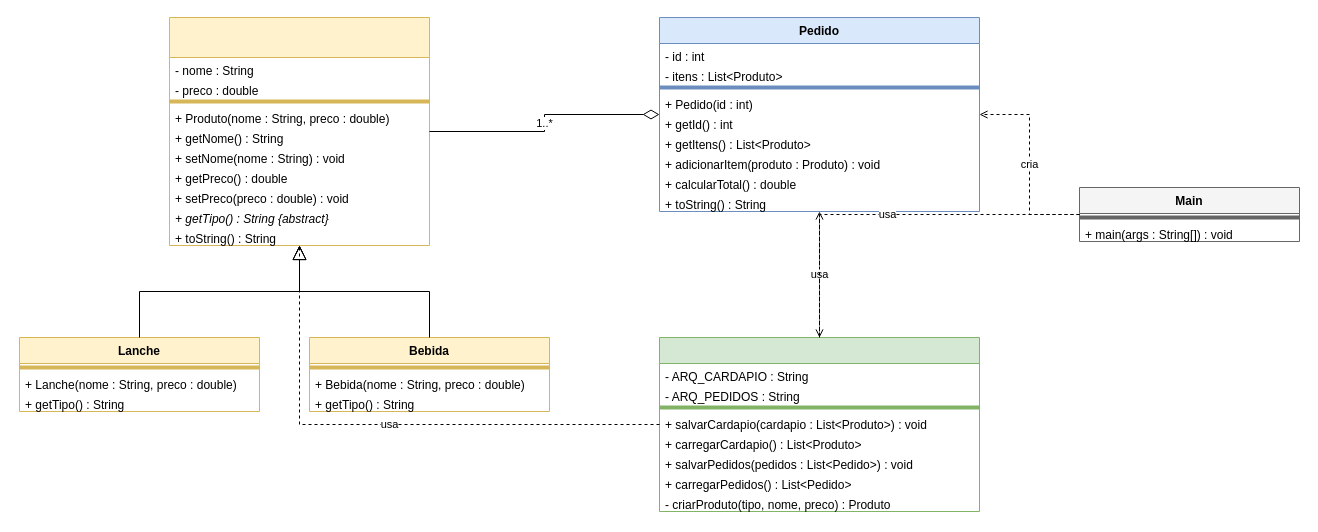
This 1318x532 diagram has some shape labels left out. Each missing label, with the box of its shape:
GerenciadorArquivo: (658, 336, 980, 512)
«abstract» Produto: (168, 16, 430, 246)
